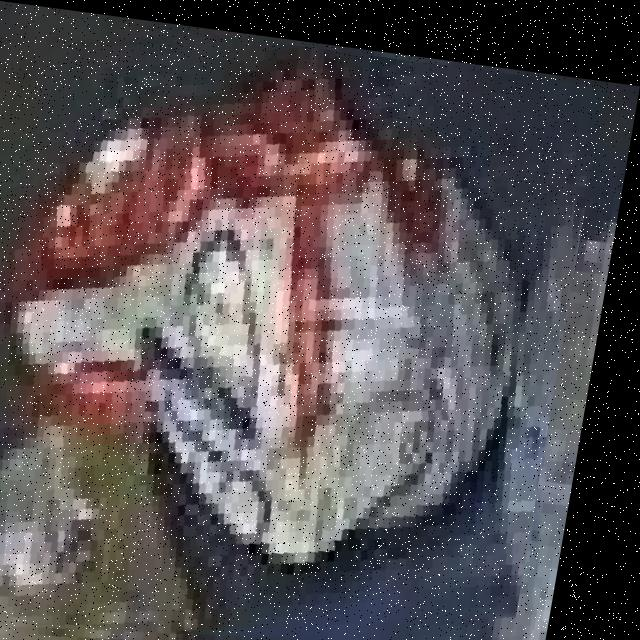litter: (0, 38, 567, 629)
